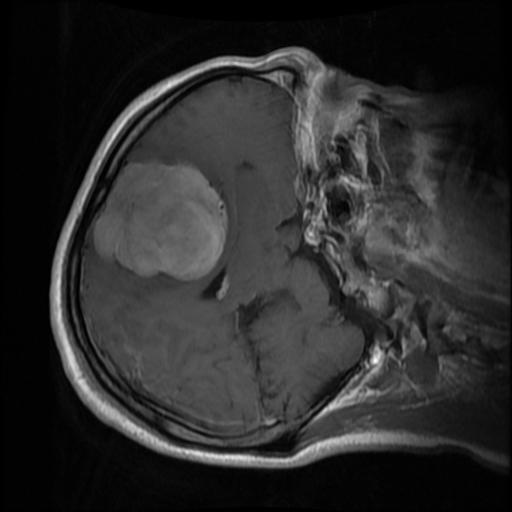meningioma: (94, 160, 226, 283)
